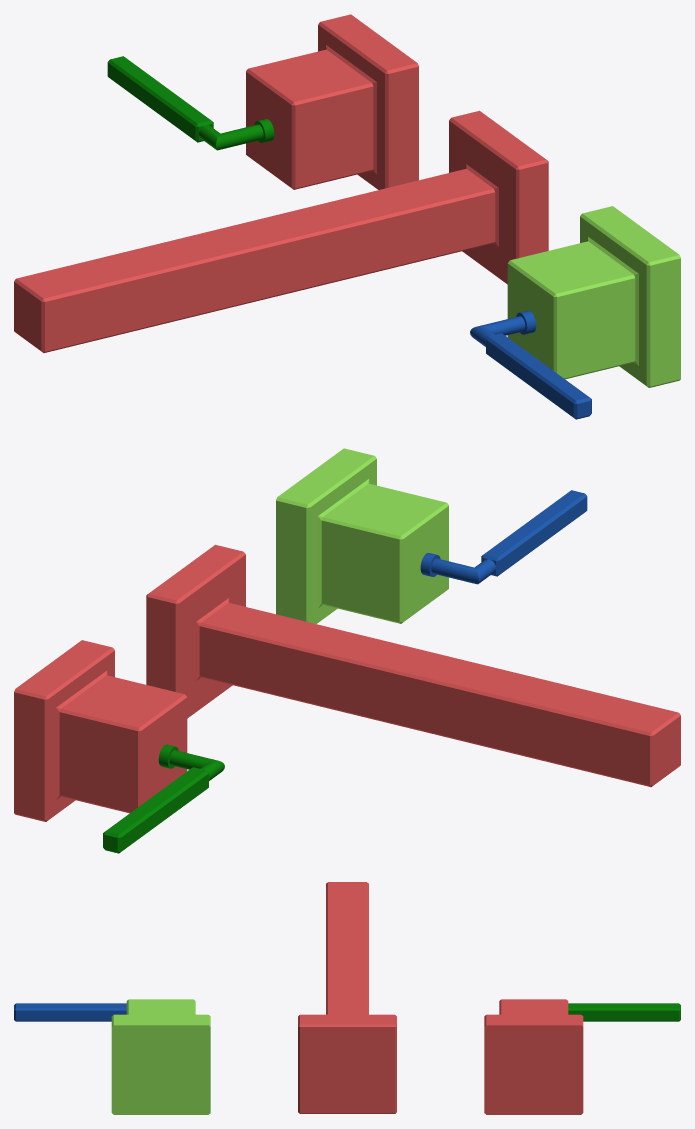
Rendered from tab.obj.
The picture shows the model from 3 angles, top to bottom: view 1: azimuth 30°, elevation 25°; view 2: azimuth 150°, elevation 25°; view 3: azimuth 270°, elevation 25°; orthographic projection. The views are drawn at different scales.
Parts seen in each view (by area): view 1: Component_160_001, Component_158_002, Component_158_001, Component_159_003, Component_159_001; view 2: Component_160_001, Component_158_001, Component_158_002, Component_159_001, Component_159_003; view 3: Component_160_001, Component_158_002, Component_158_001, Component_159_003, Component_159_001.
Boxes of the visible parts, left/top/right/bottom form: Component_160_001: left=14, top=110, right=548, bottom=352; Component_158_002: left=246, top=14, right=418, bottom=189; Component_158_001: left=507, top=206, right=680, bottom=387; Component_159_003: left=107, top=56, right=274, bottom=150; Component_159_001: left=470, top=310, right=591, bottom=419; Component_160_001: left=146, top=544, right=680, bottom=786; Component_158_001: left=276, top=448, right=448, bottom=623; Component_158_002: left=14, top=640, right=187, bottom=821; Component_159_001: left=420, top=490, right=587, bottom=584; Component_159_003: left=103, top=744, right=224, bottom=853; Component_160_001: left=298, top=882, right=396, bottom=1113; Component_158_002: left=484, top=999, right=583, bottom=1114; Component_158_001: left=111, top=999, right=210, bottom=1114; Component_159_003: left=568, top=1003, right=680, bottom=1021; Component_159_001: left=14, top=1003, right=126, bottom=1021.
Bounding box in the file's own units: 8.46 × 2.09 × 14.09.
